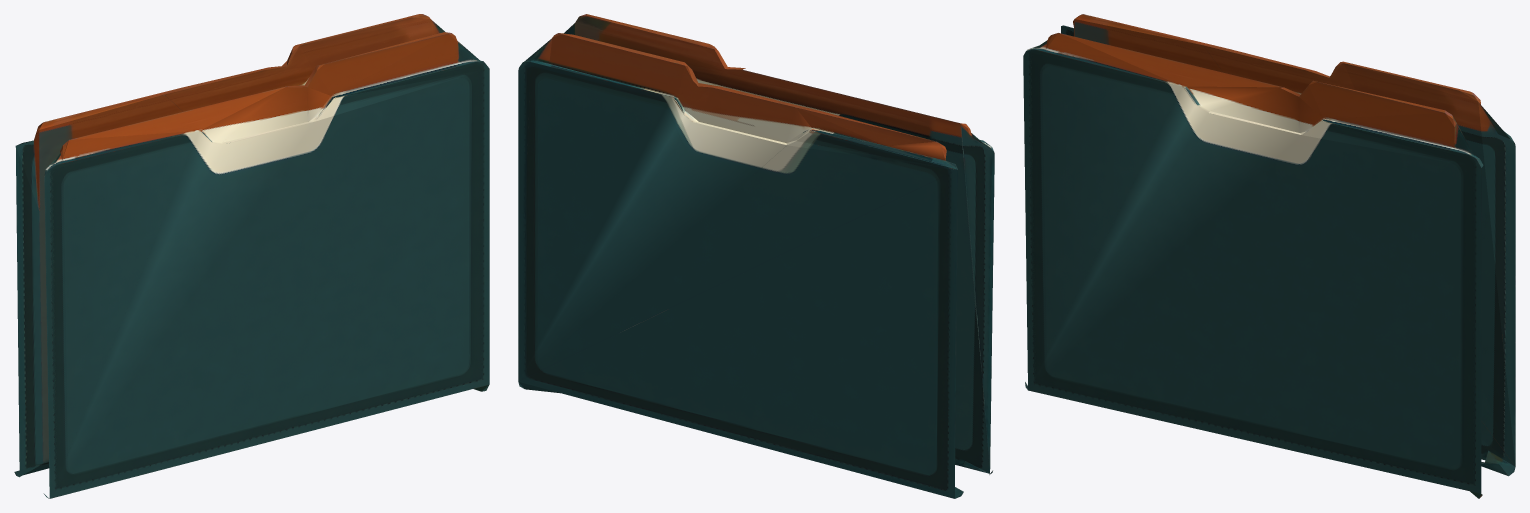
The model's file is IT_Clutter_Document.fbx.
3 renders of one model, left to right at view 1: azimuth 30°, elevation 25°; view 2: azimuth 150°, elevation 25°; view 3: azimuth 330°, elevation 25°, orthographic. The views are drawn at different scales.
Visible parts, largest first — view 1: Mesh_0; view 2: Mesh_0; view 3: Mesh_0.
Part boxes in pixels (<box>): Mesh_0: <box>14,14,489,498</box>; Mesh_0: <box>518,14,994,498</box>; Mesh_0: <box>1023,14,1515,498</box>.
Size of the model in its own units: 189 by 149 by 24.35.
Materials: 1 (1 with a texture image).
